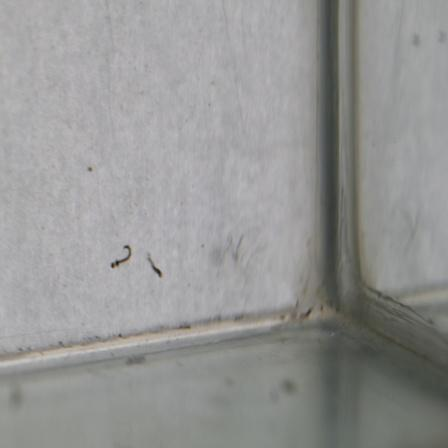Jentik-Nyamuk: (110, 243, 136, 273), (143, 251, 166, 281)
